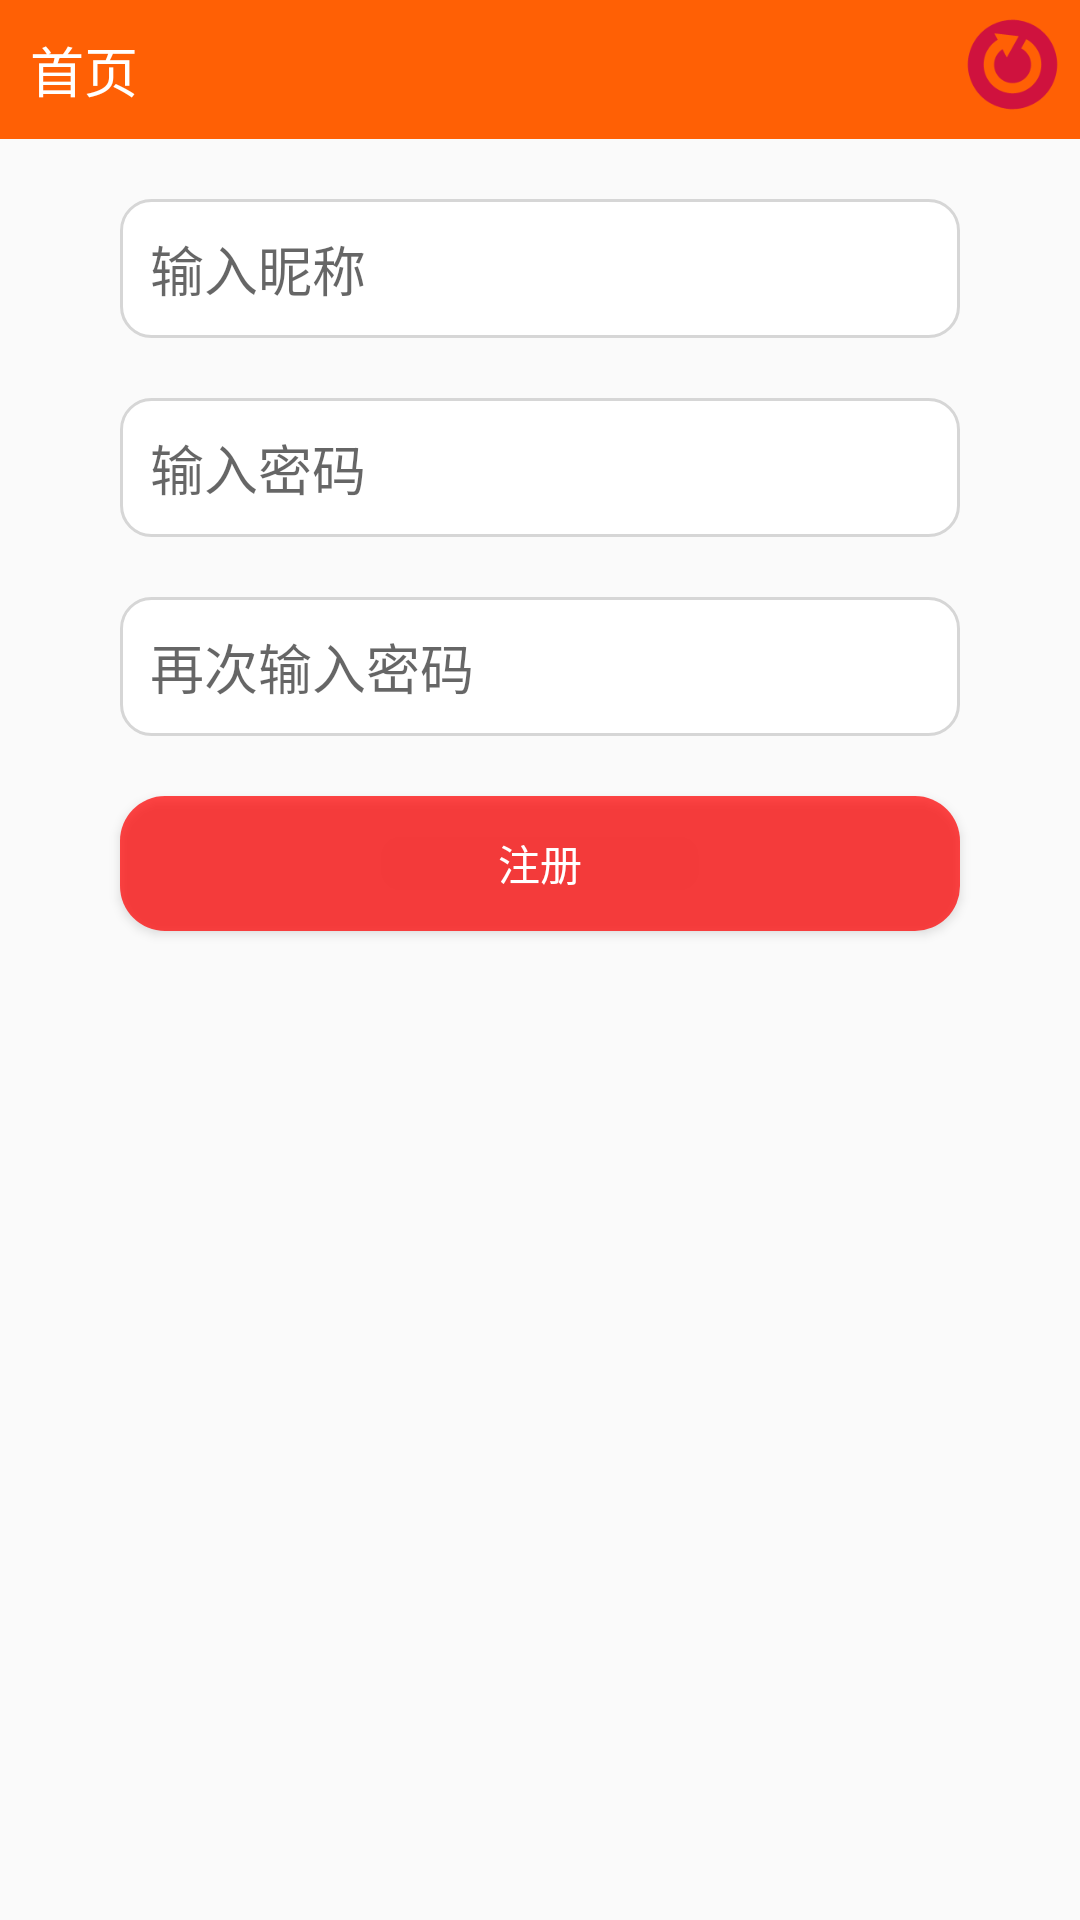

Screen size 1080 × 1920. Icon name, then its center in pixels as (x=x, y=y):
refresh: (x=1012, y=64)
